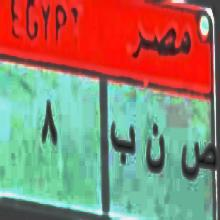8: (37, 101, 60, 145)
baa: (107, 124, 138, 170)
noon: (144, 118, 170, 181)
saad: (182, 132, 217, 189)
